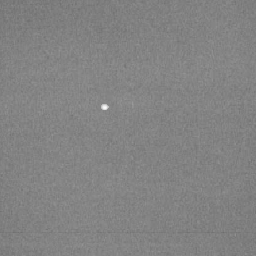Target: (99, 102, 110, 111)
